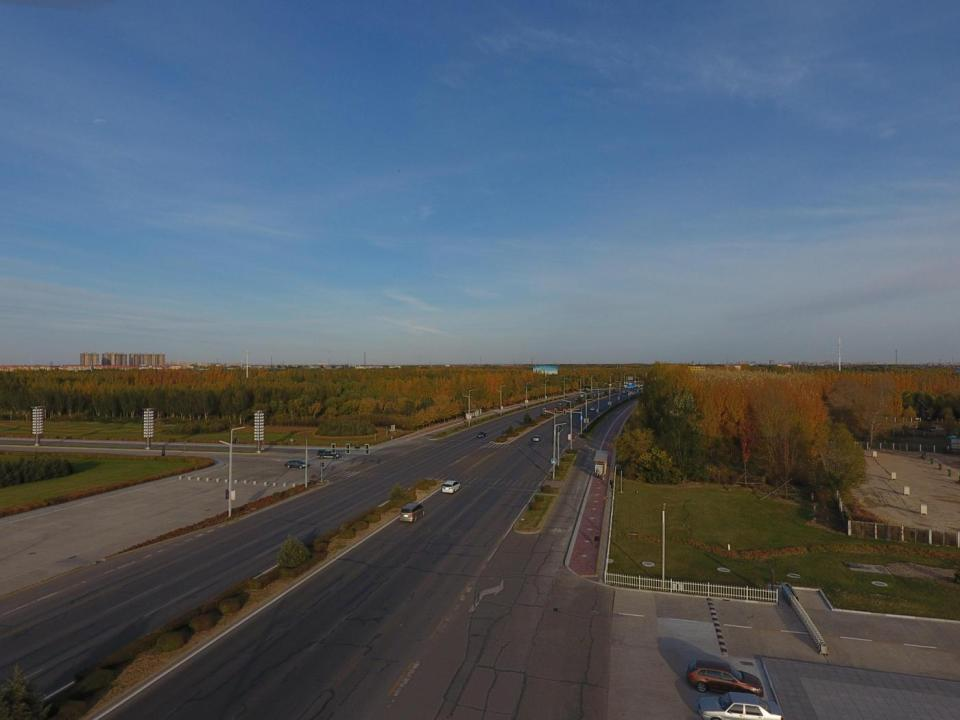car: (686, 658, 766, 698), (696, 692, 784, 720), (285, 460, 310, 468), (476, 431, 487, 438), (533, 434, 542, 441), (589, 406, 596, 411), (557, 400, 562, 406), (574, 396, 579, 401), (579, 394, 584, 398)
van: (399, 503, 425, 522), (316, 449, 340, 460), (442, 480, 460, 494)
